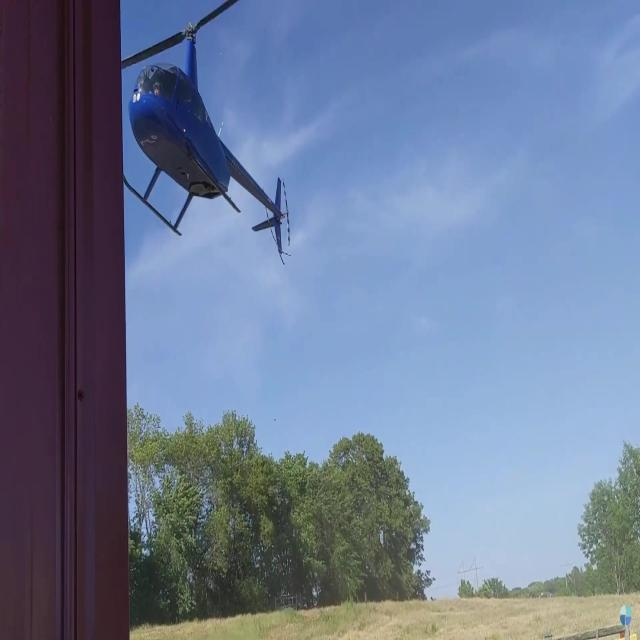CIV_HELO: (124, 21, 284, 257)
